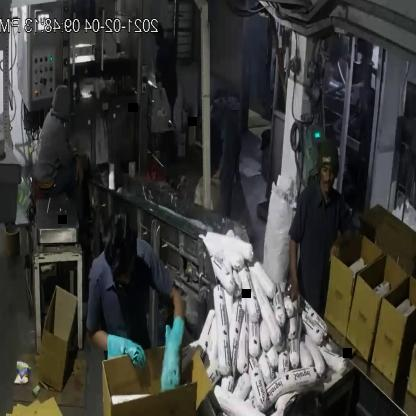glove: (155, 302, 202, 402), (96, 313, 160, 381)
no_glove: (279, 227, 310, 309), (324, 217, 360, 268), (65, 143, 93, 200)
